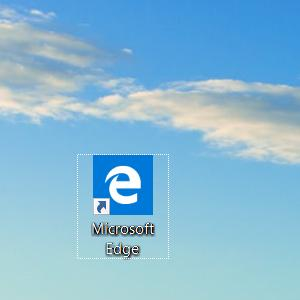edge: (93, 155, 153, 216)
